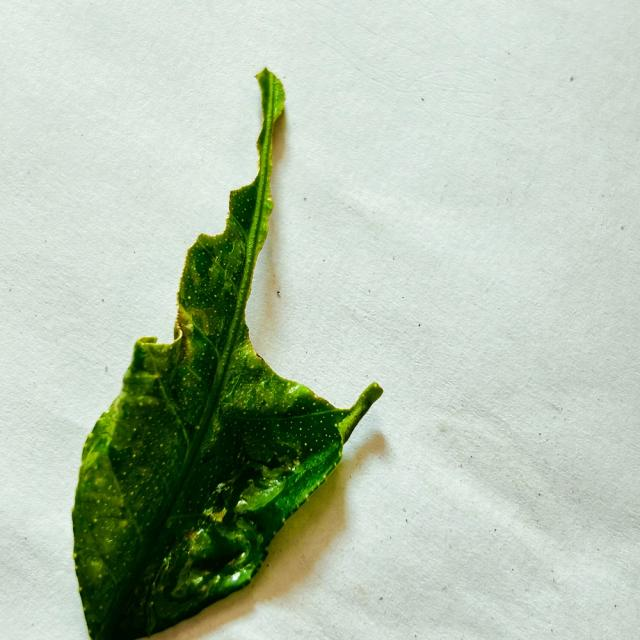Deficiency Leaf: (253, 111, 370, 399), (205, 65, 261, 219), (166, 153, 221, 243), (145, 211, 182, 342)
Lemon: (72, 69, 382, 639)
